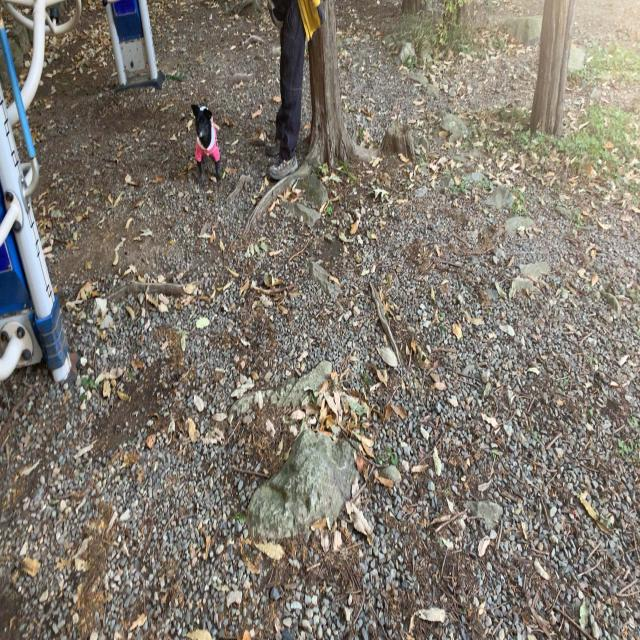Unleashed_Dog: (190, 0, 306, 185)
